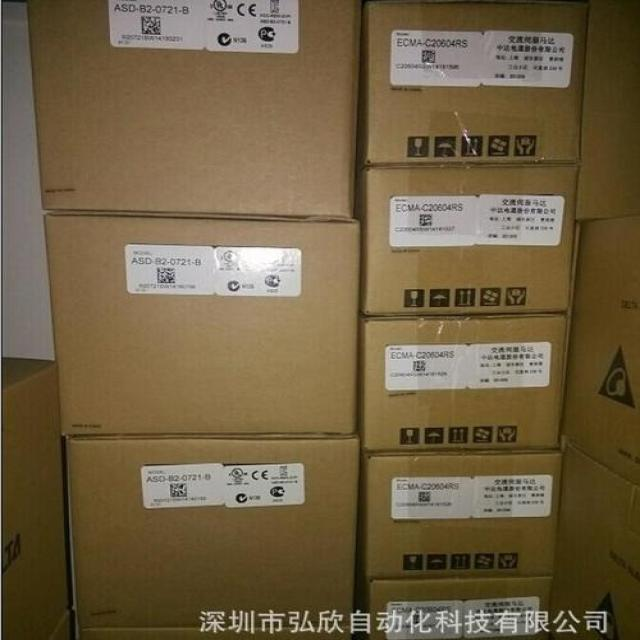box: (27, 0, 360, 218), (44, 214, 357, 435), (65, 435, 360, 628), (358, 0, 588, 167), (361, 163, 577, 315), (360, 315, 572, 451), (362, 450, 562, 582), (0, 357, 76, 640), (562, 214, 640, 486), (548, 447, 640, 640), (576, 1, 640, 221), (365, 575, 550, 640)
